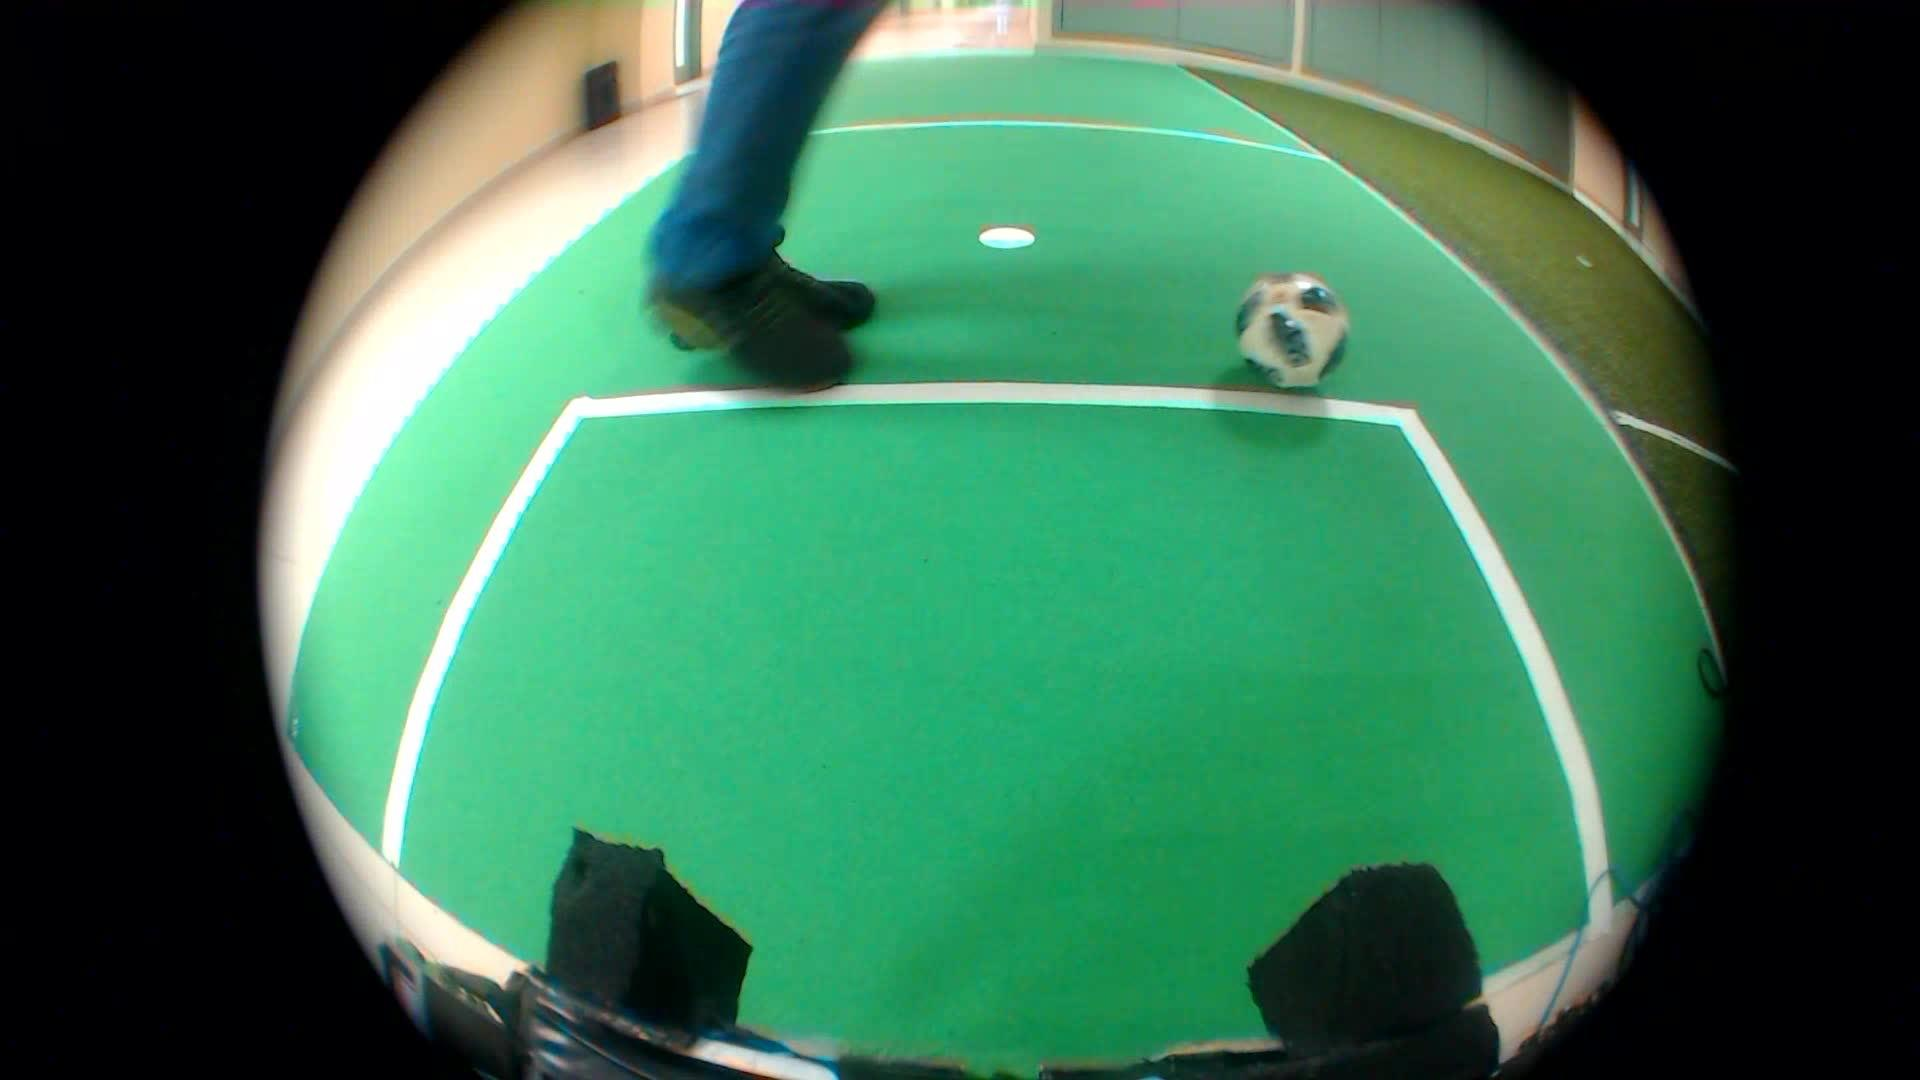ball: (1217, 258, 1365, 419)
